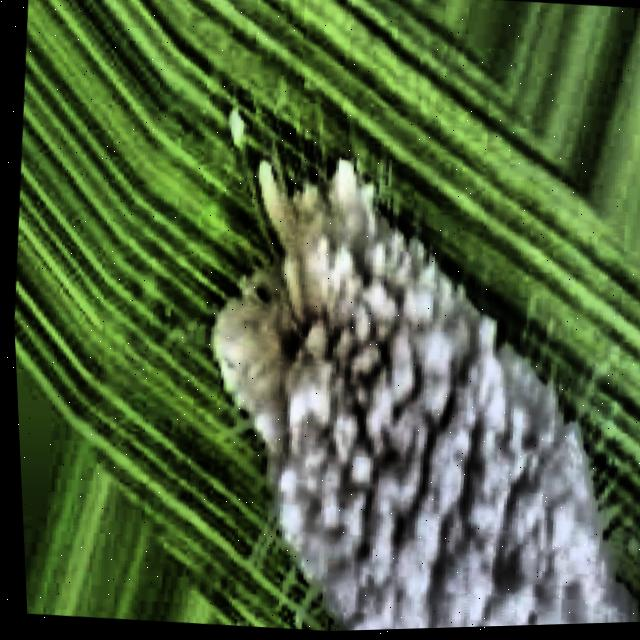Mealy-bug: (62, 107, 640, 639)
